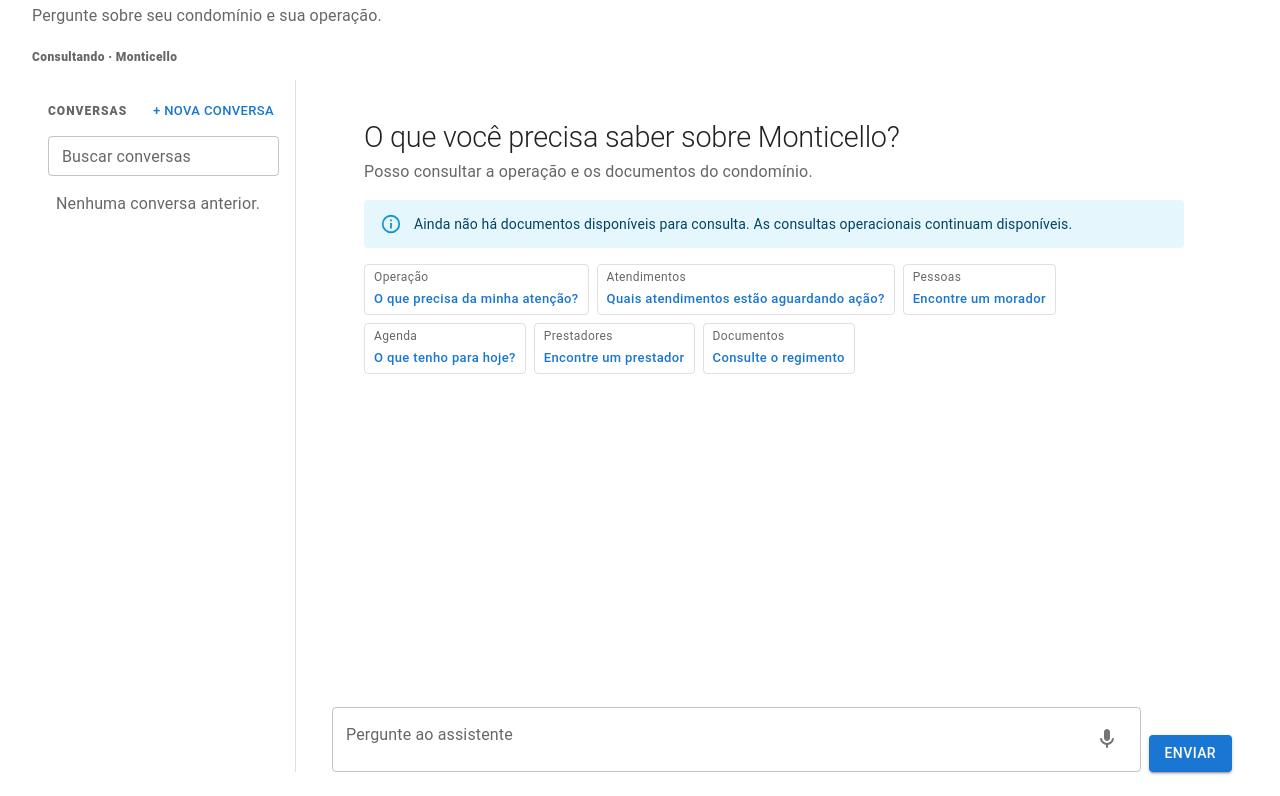
Test case: CondominiumAssistantPage › renders streamed tokens incrementally and reconciles with the final answer
This screenshot has width=1280, height=796.
(page scrolled)
Type "Qual o horário da piscina?" into the text box labelled "Pergunte ao assistente" at [714, 739], box [346, 728, 1082, 751]
Then press Enter
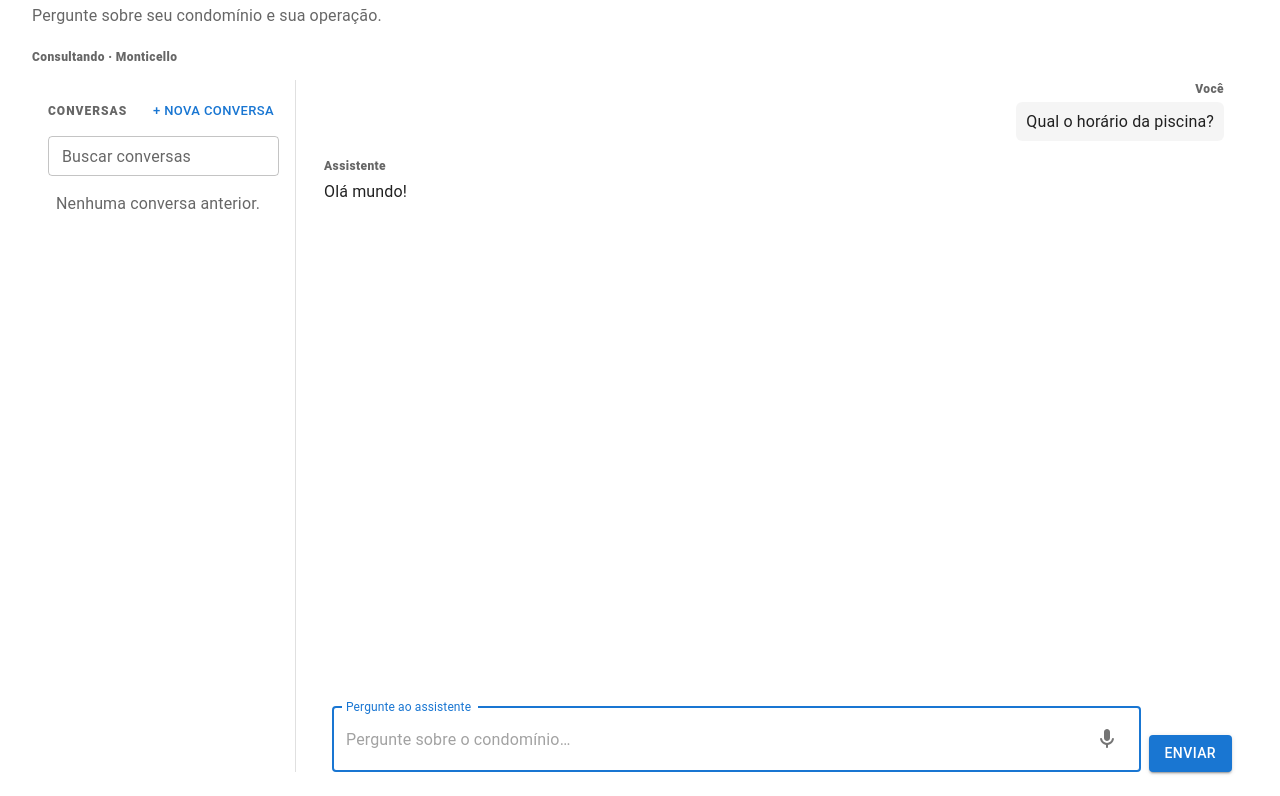
Check: the text "Olá mundo!" is shown, box [324, 182, 407, 200]
